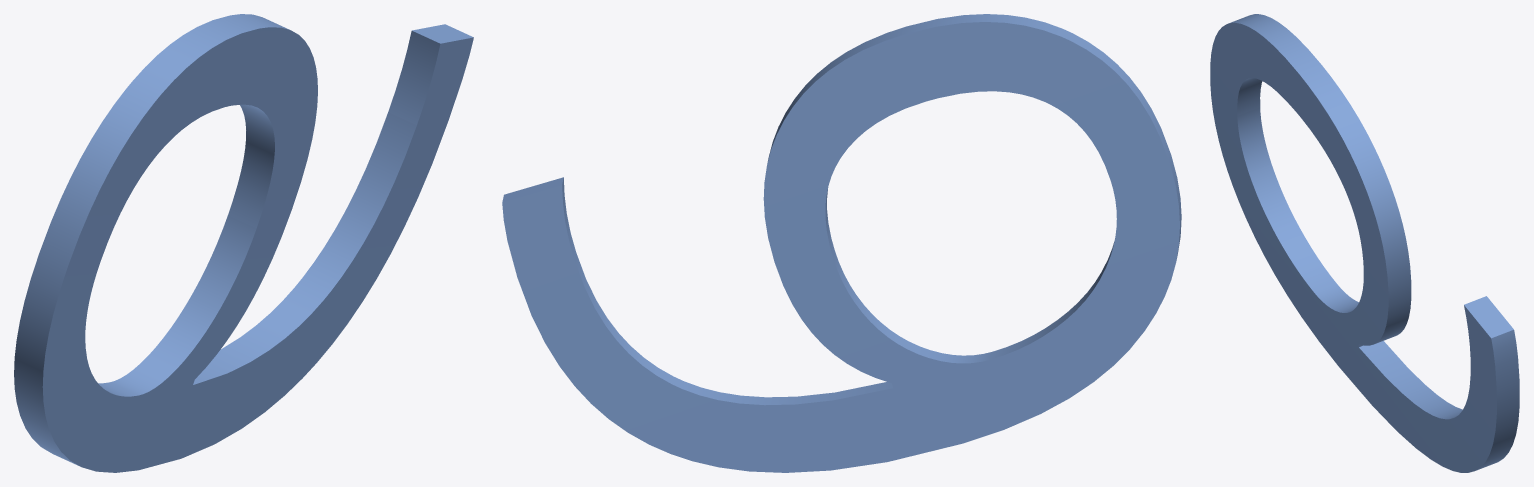
The model's file is New_Number_6.gltf.
3 views of the same model, side by side, from view 1: azimuth 30°, elevation 25°; view 2: azimuth 150°, elevation 25°; view 3: azimuth 270°, elevation 25° (orthographic). The views are drawn at different scales.
Parts seen in each view (by area): view 1: Part 555; view 2: Part 555; view 3: Part 555.
Part boxes in pixels (bbox=[...]): Part 555: bbox=[14, 14, 473, 472]; Part 555: bbox=[502, 14, 1181, 472]; Part 555: bbox=[1210, 14, 1519, 472].
Bounding box in the file's own units: 0.00526 × 0.00396 × 0.00303.
